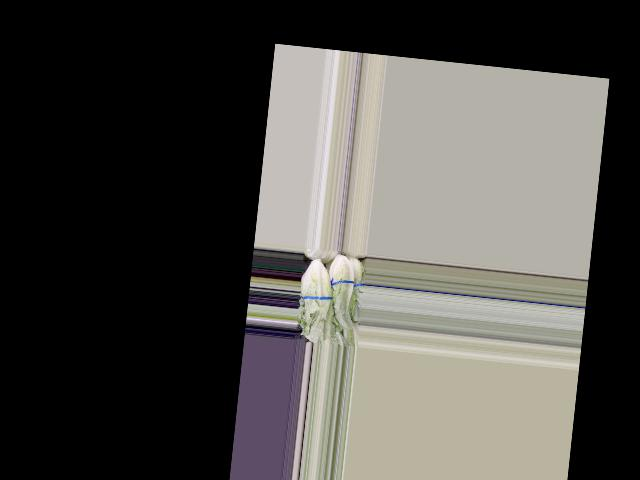lettuce: (323, 252, 362, 330)
